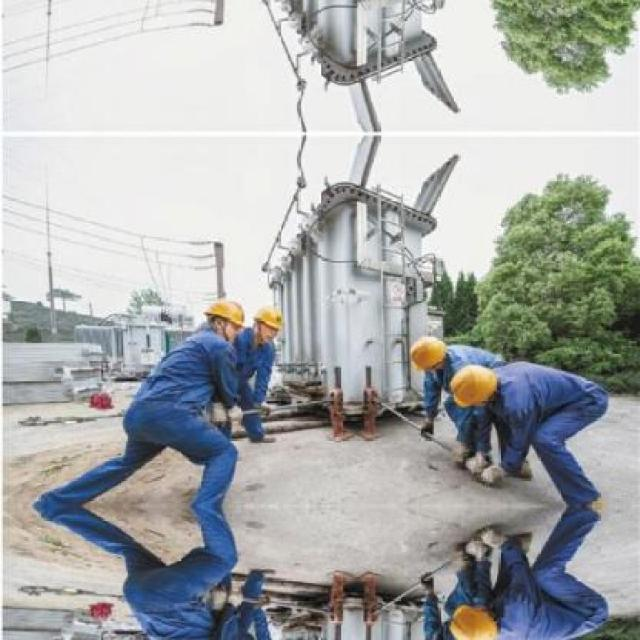helmet: (446, 359, 499, 407), (201, 293, 245, 338), (446, 602, 500, 638), (408, 331, 450, 374), (248, 296, 284, 341)
